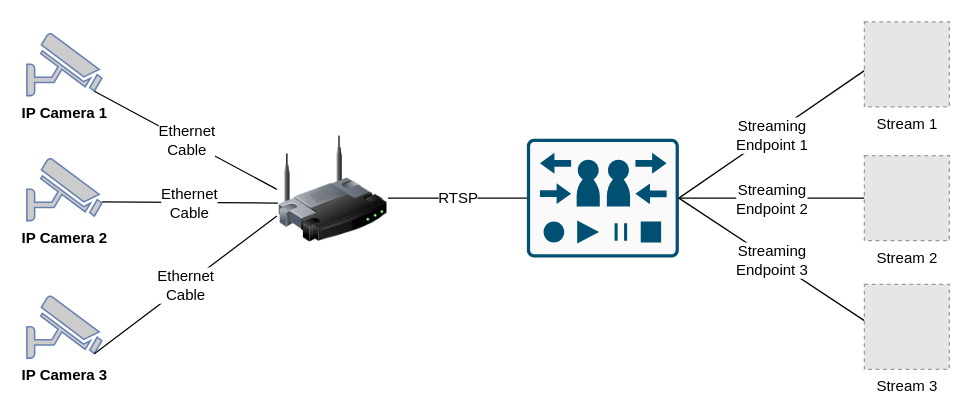
This 971x418 diagram has some shape labels left out. Grey dashed boxes stand in for pictures. Here are the shapes that lost their labels. From the top down, the centre of each, then its label:
the point at 332,189: Router
the point at 602,198: Streaming Server
